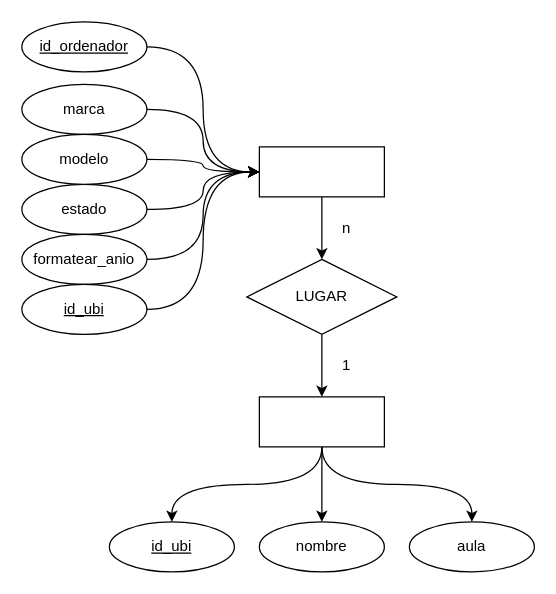
This 556x594 diagram has some shape labels left out. The box of each missing label's shape, as (x1, y1, x2, y2) in pixels:
ORDENADORES: (258, 146, 384, 197)
UBICACION: (258, 396, 384, 447)
